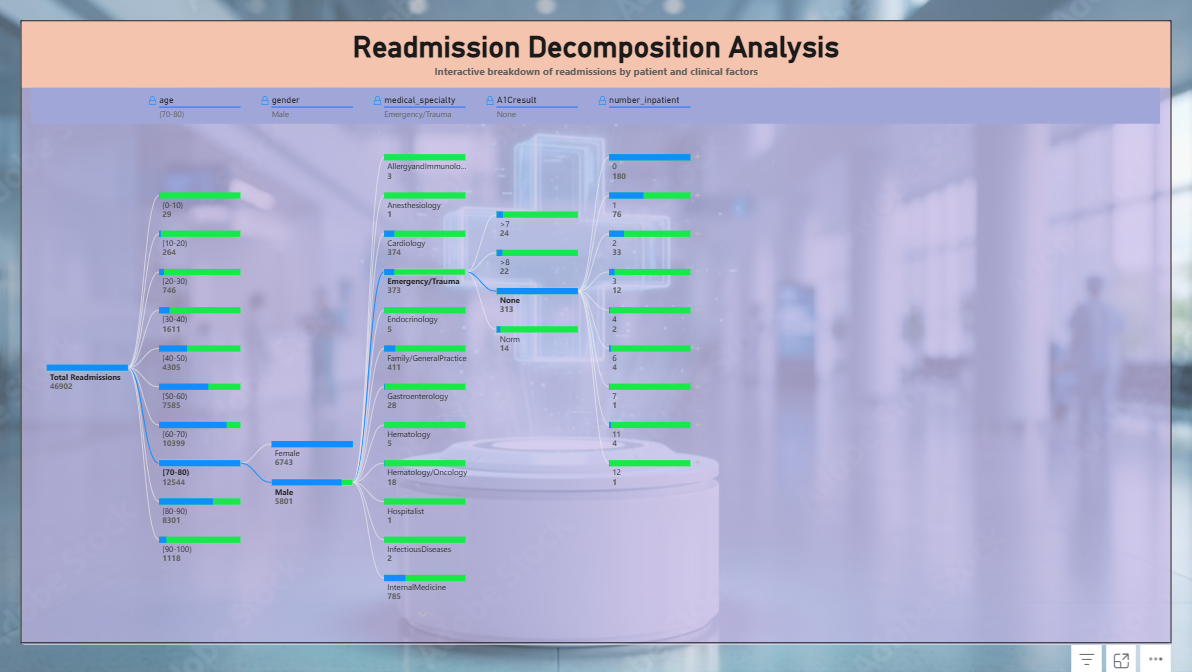

This screenshot's page, from the dashboard's own definition file:
{"tool":"powerbi","page":{"name":"Readmission Breakdown","canvas":[1920,1080],"ordinal":6},"visuals":[{"type":"decompositionTreeVisual","title":"Readmission Decomposition Analysis","fields":{"Analyze":["diabetic_data.Total Readmissions"],"ExplainBy":["Dim_Age.age","diabetic_data.gender","diabetic_data.medical_specialty","diabetic_data.A1Cresult","diabetic_data.number_inpatient","diabetic_data.race","Dim_Admission_Type.admission_type","diabetic_data.number_emergency","diabetic_data.max_glu_serum","diabetic_data.time_in_hospital"]},"box":[36.8,33.1,1840.5,999.4],"z":0}]}

Visuals, with their boxes in screenshot pixels (x1, y1, x2, y2), scaled from the page's 1920x1080 canvas onto the 1192x672 screenshot:
"Readmission Decomposition Analysis" decompositionTreeVisual: [left=23, top=21, right=1165, bottom=642]
